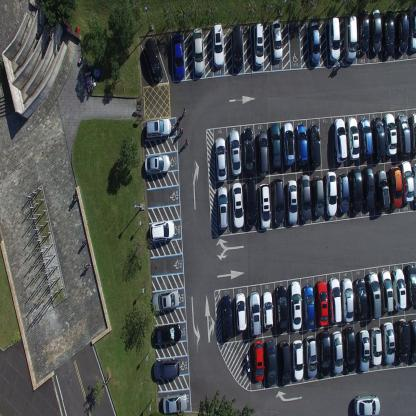car: (144, 36, 163, 81), (332, 116, 348, 164), (366, 271, 382, 319), (387, 165, 403, 209), (343, 14, 357, 62), (152, 288, 180, 312), (396, 113, 411, 157), (392, 267, 407, 311), (395, 318, 410, 362), (381, 320, 396, 364), (327, 16, 341, 63), (324, 170, 338, 216), (328, 278, 342, 324), (375, 168, 389, 213), (379, 270, 394, 312), (278, 340, 292, 385), (172, 32, 185, 80), (231, 180, 244, 228), (318, 328, 331, 376), (145, 117, 171, 141), (400, 159, 414, 203), (395, 11, 409, 55), (361, 166, 375, 210), (304, 334, 318, 378), (154, 322, 182, 344), (228, 129, 241, 176), (383, 112, 397, 155), (358, 117, 372, 160), (295, 123, 309, 166), (354, 277, 368, 320), (245, 178, 257, 228), (357, 8, 370, 54), (214, 136, 227, 182), (149, 219, 175, 242), (153, 357, 180, 379), (144, 153, 171, 175), (192, 27, 204, 76), (290, 281, 302, 330), (353, 394, 381, 415), (308, 123, 321, 168), (249, 291, 262, 336), (382, 9, 394, 57), (232, 23, 244, 71), (350, 166, 362, 214), (272, 176, 284, 224), (372, 116, 385, 160), (346, 116, 359, 160), (311, 174, 324, 218), (162, 392, 188, 414), (212, 21, 224, 68), (299, 174, 311, 221), (270, 122, 282, 169), (259, 182, 271, 229), (276, 285, 288, 332), (265, 339, 277, 386), (308, 20, 320, 66), (341, 277, 353, 323), (316, 280, 328, 326), (303, 284, 315, 330), (220, 294, 232, 340), (344, 326, 356, 372), (243, 127, 254, 177), (270, 19, 283, 61), (291, 339, 304, 381), (252, 22, 264, 67), (286, 179, 298, 224), (282, 121, 294, 166), (370, 10, 382, 54), (369, 326, 382, 366), (257, 129, 268, 176), (217, 185, 228, 231), (337, 172, 349, 214), (332, 330, 343, 374), (358, 329, 369, 372), (235, 292, 247, 331), (253, 340, 264, 382), (406, 264, 416, 310), (263, 290, 273, 329), (408, 318, 416, 366), (409, 112, 416, 154), (410, 6, 416, 52), (412, 162, 415, 207)
